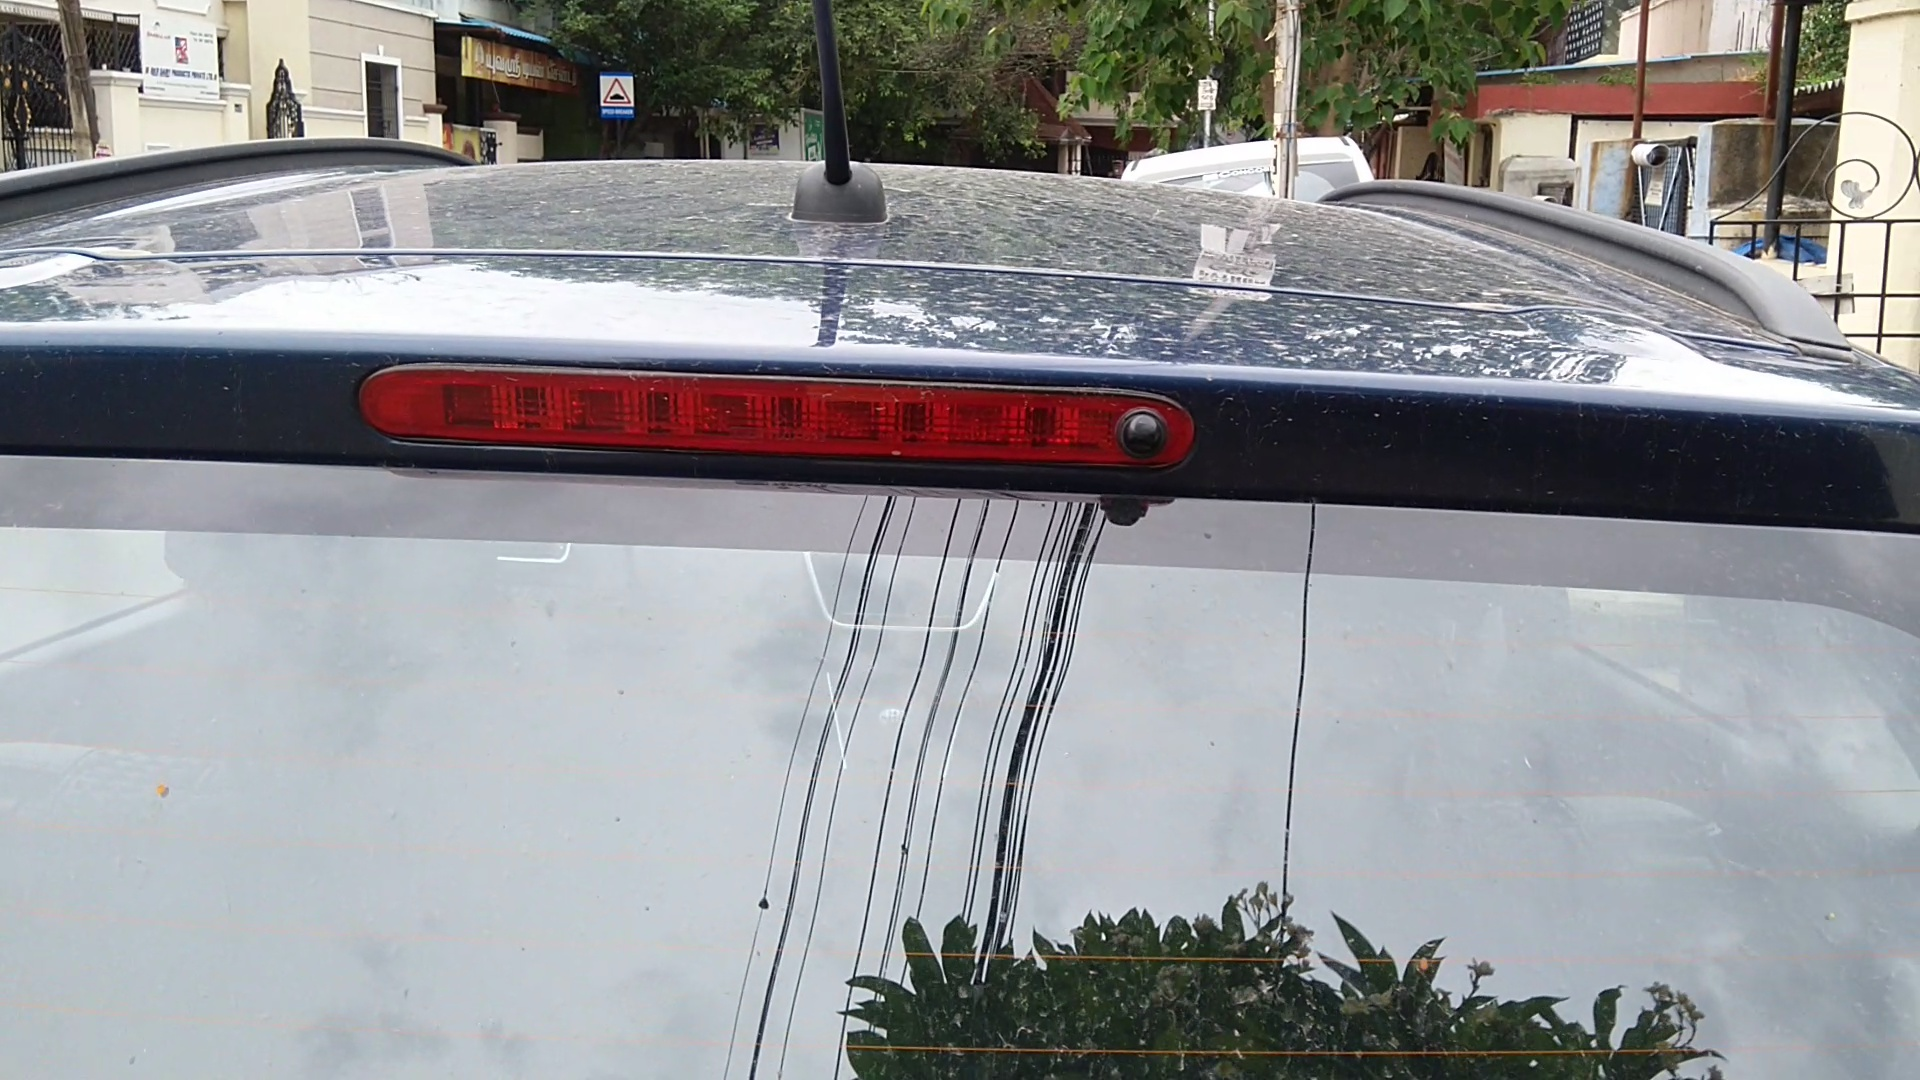rear_camera: (1105, 393, 1182, 469)
